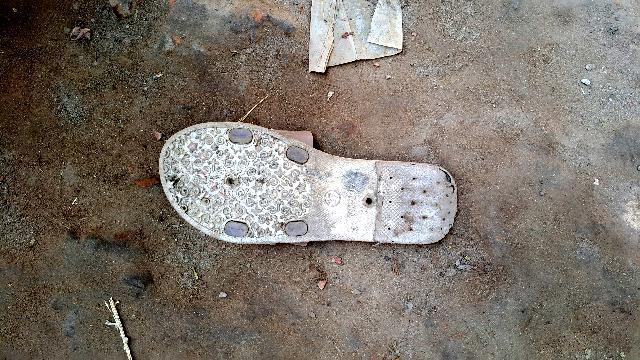sandal: (144, 109, 461, 297)
